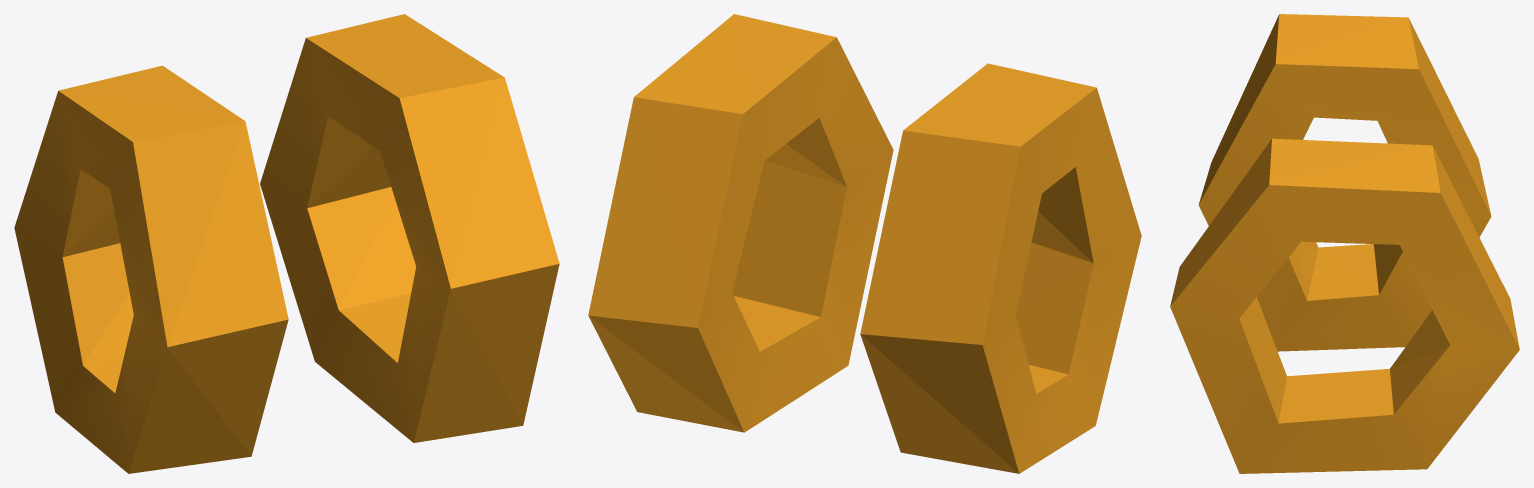
Rendered from Bracer 02.FBX.
The picture shows the model from 3 angles, left to right: view 1: azimuth 30°, elevation 25°; view 2: azimuth 150°, elevation 25°; view 3: azimuth 270°, elevation 25°; orthographic projection. The views are drawn at different scales.
Parts seen in each view (by area): view 1: Bracer 02; view 2: Bracer 02; view 3: Bracer 02.
Part boxes in pixels (box(x1,y1,x2,y2)): Bracer 02: box(14, 14, 559, 473); Bracer 02: box(588, 14, 1141, 473); Bracer 02: box(1170, 14, 1519, 473).
Bounding box in the file's own units: 10.54 × 9.48 × 9.82.
1 material, 1 textured.
